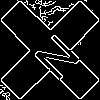N: (25, 25, 83, 83)
